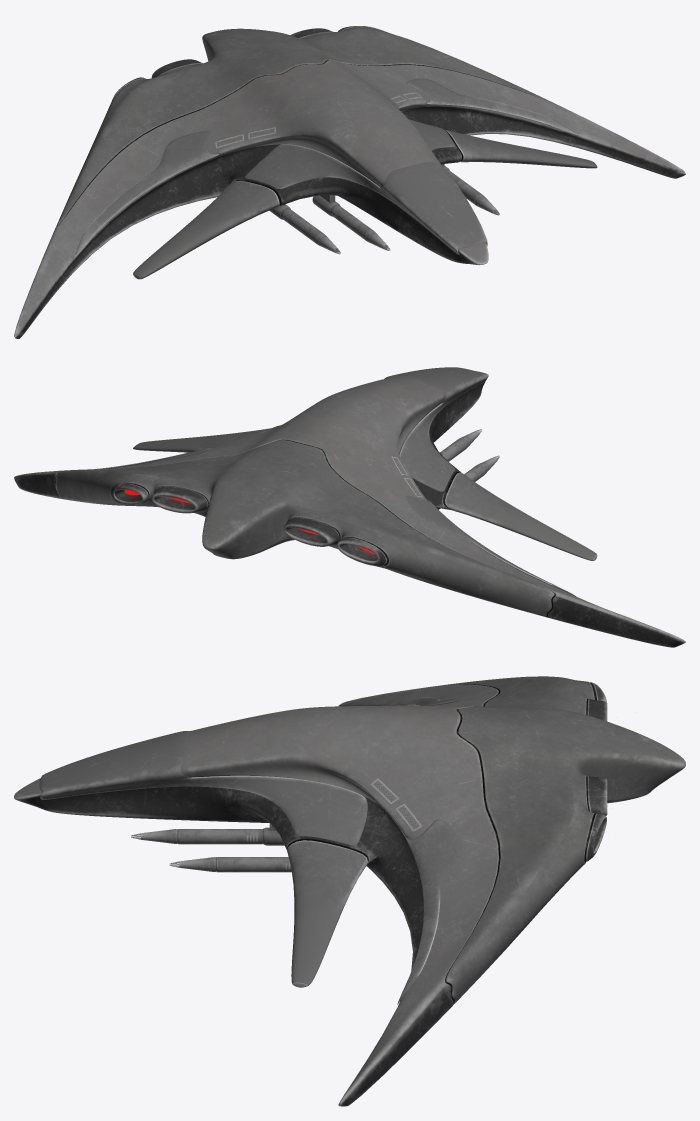
Rendered from Spaceship_1.fbx.
3 views of the same model, one above another, from view 1: azimuth 30°, elevation 25°; view 2: azimuth 150°, elevation 25°; view 3: azimuth 270°, elevation 25° (orthographic). The views are drawn at different scales.
Visible parts, largest first — view 1: Ship_Body, Armor, Guns; view 2: Ship_Body, Armor, Guns; view 3: Ship_Body, Armor, Guns.
Boxes of the visible parts, left/top/right/bottom form: Ship_Body: left=14, top=26, right=685, bottom=338; Armor: left=74, top=78, right=577, bottom=257; Guns: left=269, top=164, right=499, bottom=254; Ship_Body: left=14, top=371, right=685, bottom=647; Armor: left=94, top=367, right=576, bottom=596; Guns: left=438, top=429, right=499, bottom=509; Ship_Body: left=14, top=676, right=685, bottom=1106; Armor: left=39, top=697, right=464, bottom=1004; Guns: left=131, top=823, right=291, bottom=872.
Size of the model in its own units: 2437 by 559 by 1734.
